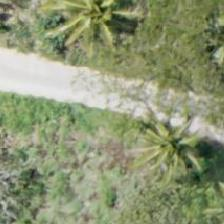coconut_tree: (126, 101, 216, 191), (49, 0, 139, 58)
